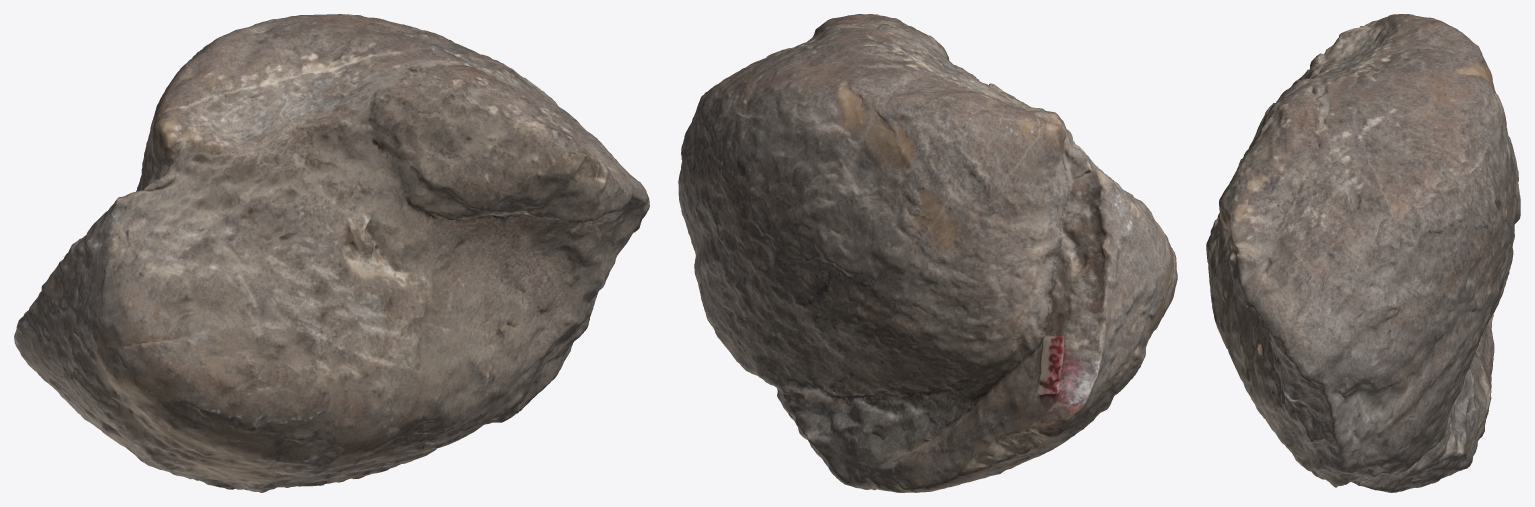
Rendered from EWS0016383.glb.
3 renders of one model, left to right at view 1: azimuth 30°, elevation 25°; view 2: azimuth 150°, elevation 25°; view 3: azimuth 270°, elevation 25°, orthographic. The views are drawn at different scales.
Parts seen in each view (by area): view 1: input; view 2: input; view 3: input.
Boxes of the visible parts, x1,y1,x2,y2 form: input: (14,14,649,492); input: (678,14,1177,492); input: (1206,14,1520,492).
Bounding box in the file's own units: 0.1164 × 0.0933 × 0.0644.
1 material, 1 textured.
